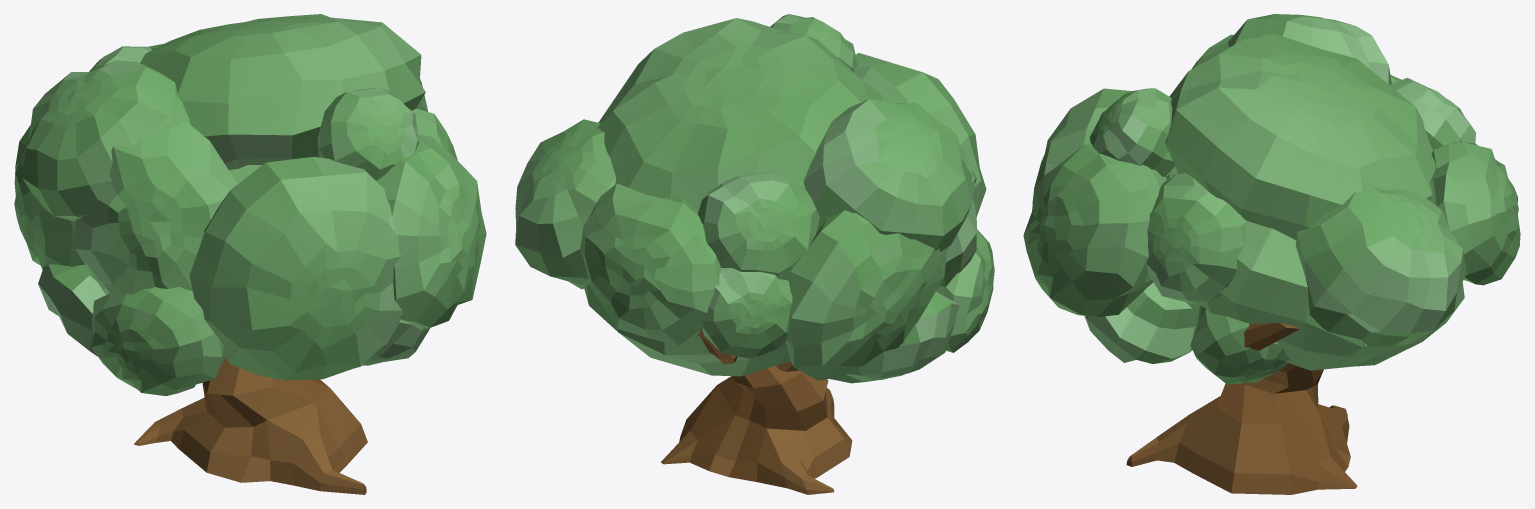
The model's file is bush_1.glb.
The picture shows the model from 3 angles, left to right: view 1: azimuth 30°, elevation 25°; view 2: azimuth 150°, elevation 25°; view 3: azimuth 270°, elevation 25°; orthographic projection. The views are drawn at different scales.
Parts seen in each view (by area): view 1: bush_1_crown, bush_1_trunk; view 2: bush_1_crown, bush_1_trunk; view 3: bush_1_crown, bush_1_trunk.
Boxes of the visible parts, x1,y1,x2,y2 form: bush_1_crown: (14,14,486,395); bush_1_trunk: (134,359,367,494); bush_1_crown: (515,14,994,383); bush_1_trunk: (661,331,852,494); bush_1_crown: (1023,14,1520,384); bush_1_trunk: (1126,293,1375,494).
Size of the model in its own units: 2 by 1.9 by 2.15.
Materials: 1 (1 with a texture image).
